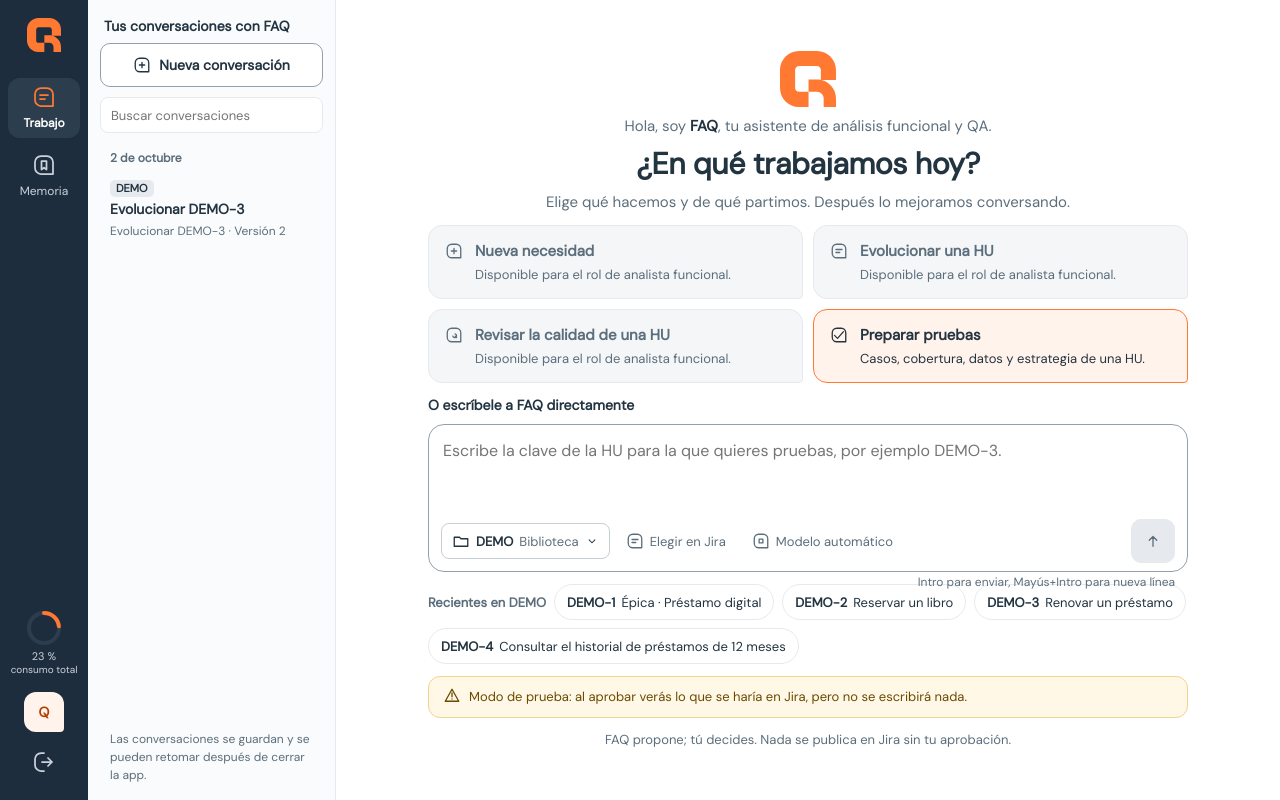
Test: QA 1 · Origen › la ficha dice cuántos casos de prueba tiene en Jira y si la publicó el agente
expect the button with aria-label "Proyecto de Jira: DEMO" is shown: met, box [441,523,610,559]
Click the text box: point(808, 475) [441,437,1175,513]
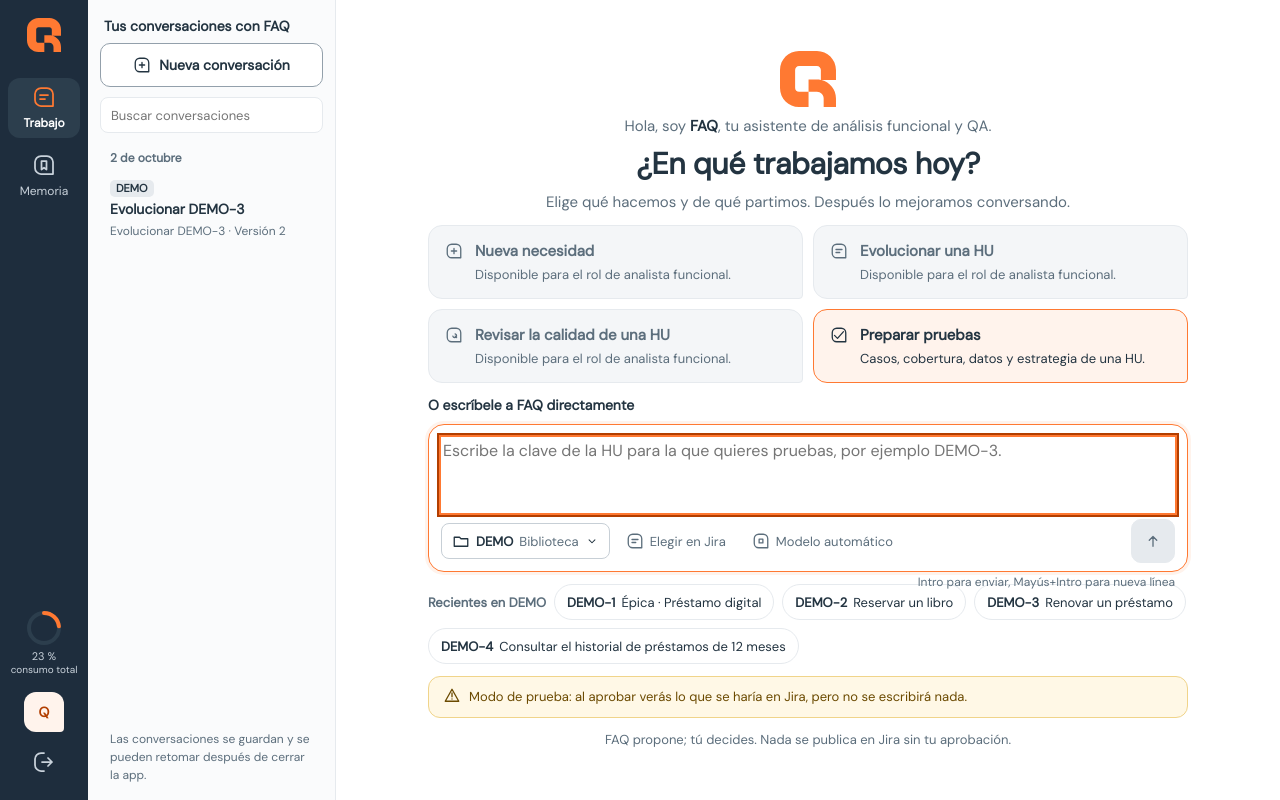
Type keys "DEMO-3"
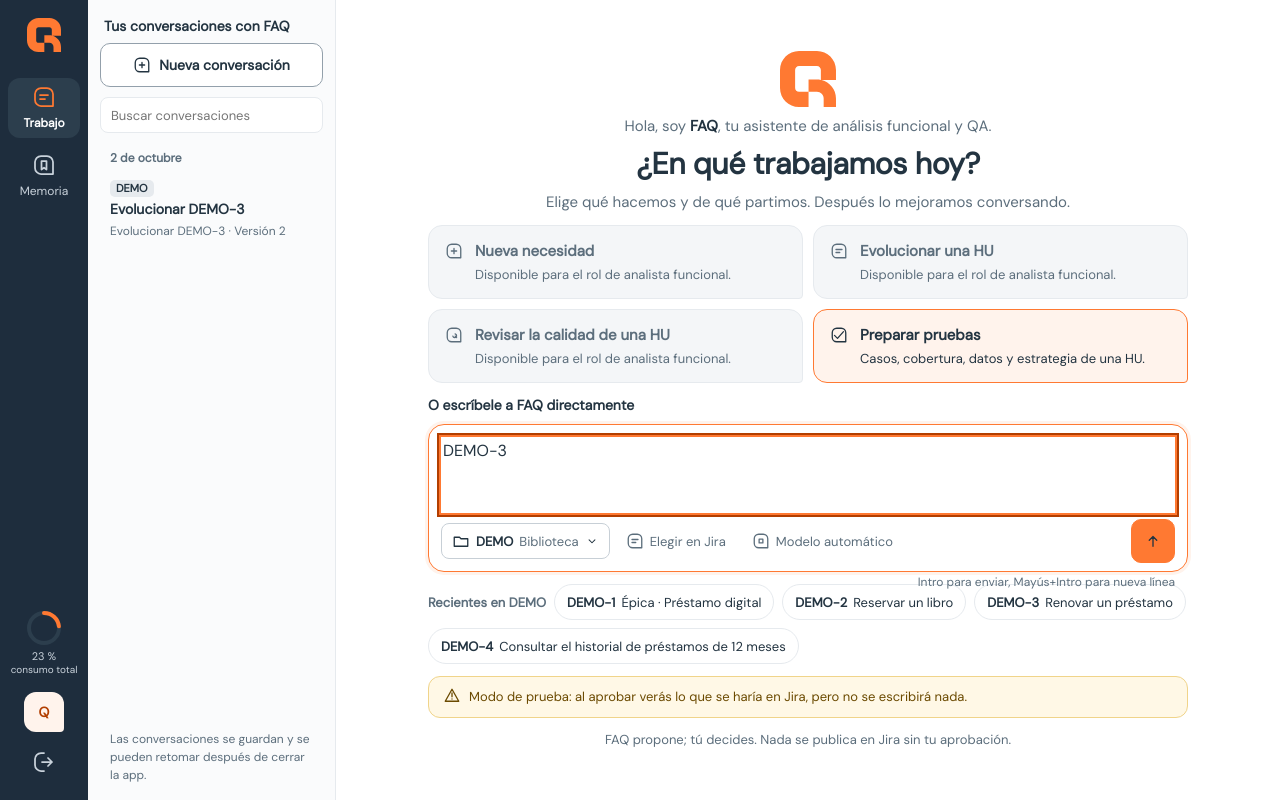
Click the button named "Continuar": point(1153, 541) [1131,519,1175,563]
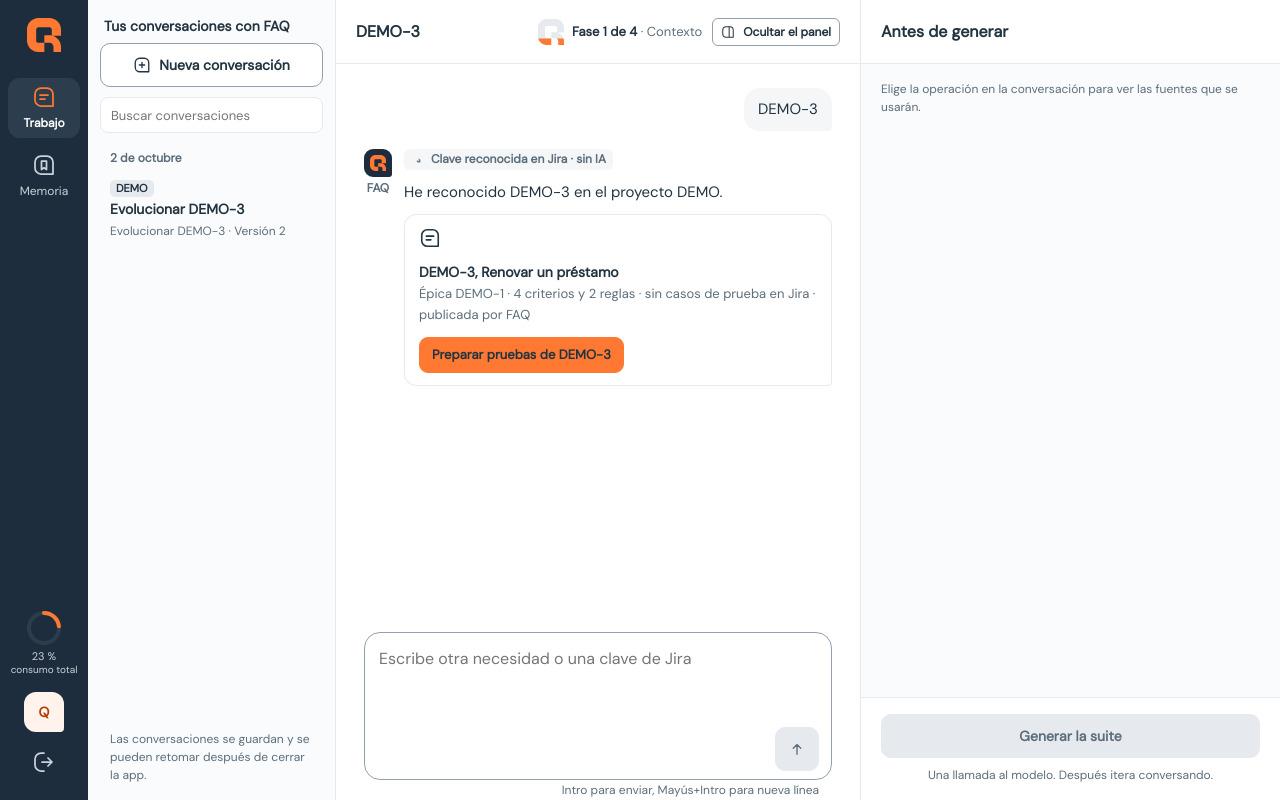
Click the button "Preparar pruebas de DEMO-3": point(521, 355) [419,337,624,373]
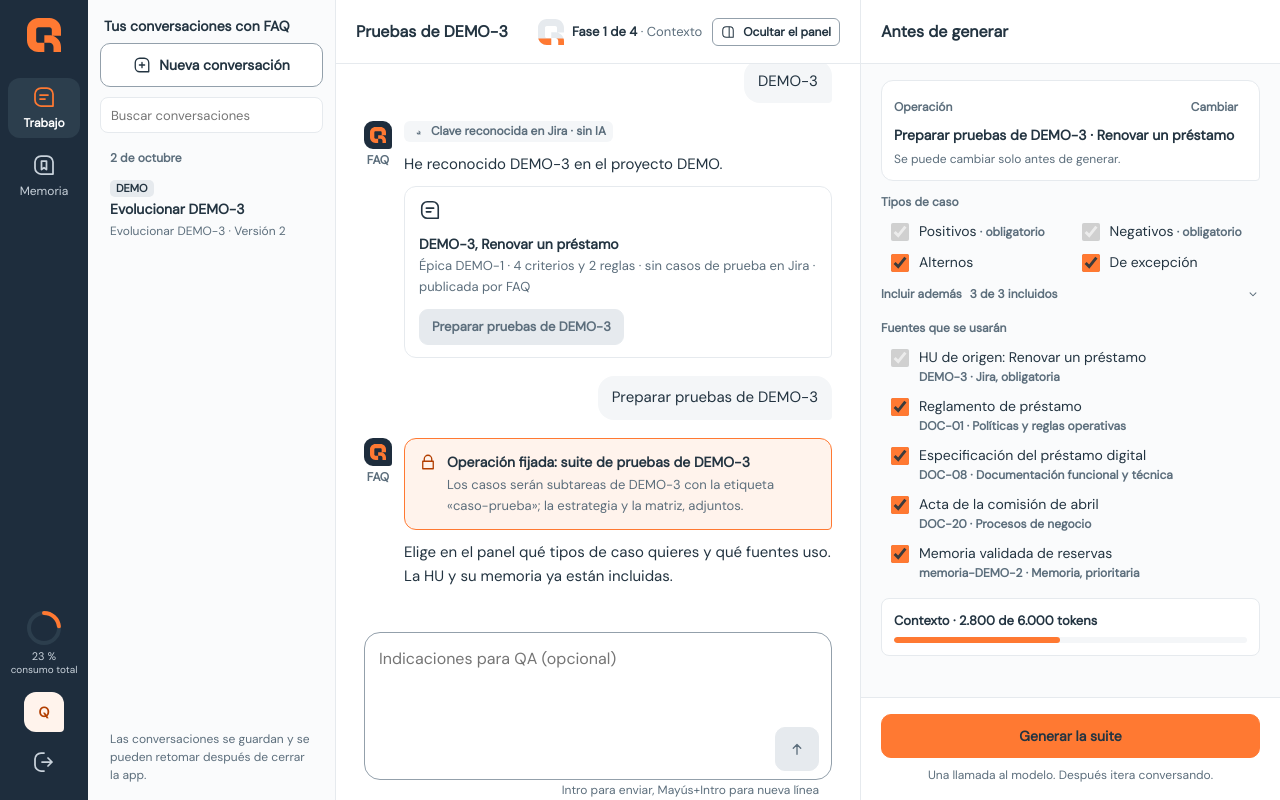
expect the text "Épica DEMO-1 · 4 criterios y 2 reglas · sin casos de prueba en Jira · publicada por FAQ" is shown: met, box [419,257,815,295]
expect the checkbox labelled "HU de origen: Renovar un préstamo DEMO-3 · Jira, obligatoria" is shown: met, box [891,349,909,367]
